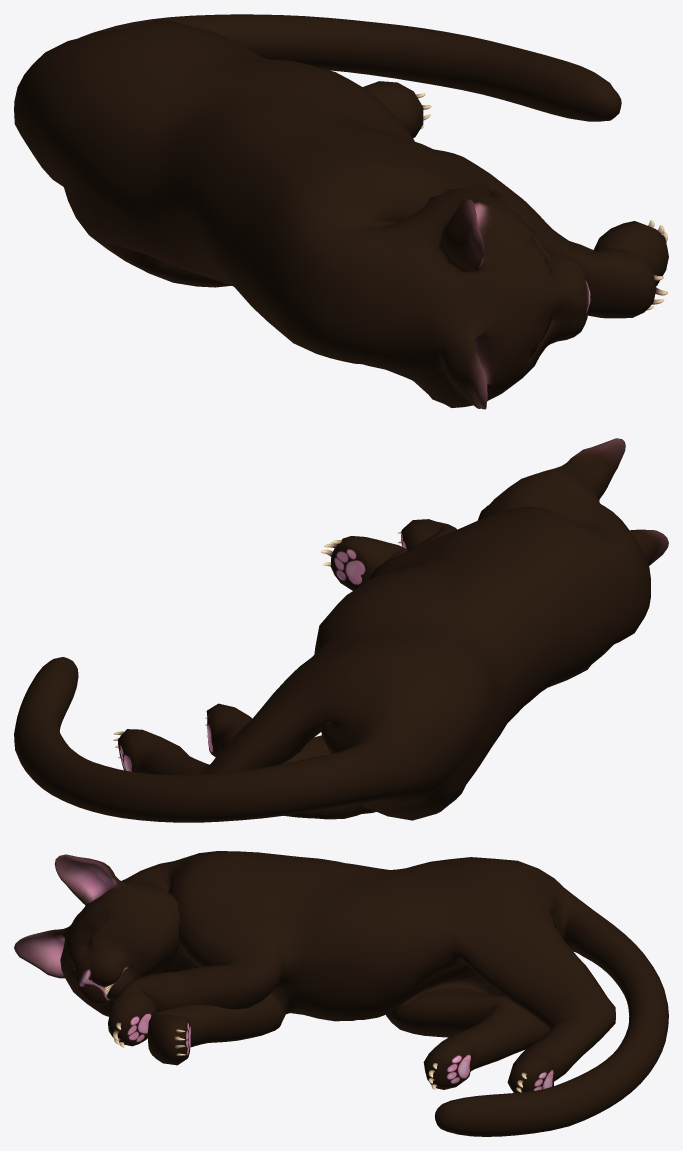
The model's file is KITTY_static.fbx.
3 views of the same model, one above another, from view 1: azimuth 30°, elevation 25°; view 2: azimuth 150°, elevation 25°; view 3: azimuth 270°, elevation 25° (orthographic). The views are drawn at different scales.
Visible parts, largest first — view 1: kissa_mesh.001; view 2: kissa_mesh.001; view 3: kissa_mesh.001.
Boxes of the visible parts, x1=… form: kissa_mesh.001: x1=14, y1=14, x2=668, y2=409; kissa_mesh.001: x1=14, y1=438, x2=668, y2=822; kissa_mesh.001: x1=14, y1=851, x2=668, y2=1136.
Size of the model in its own units: 33.79 by 15.3 by 50.82.
